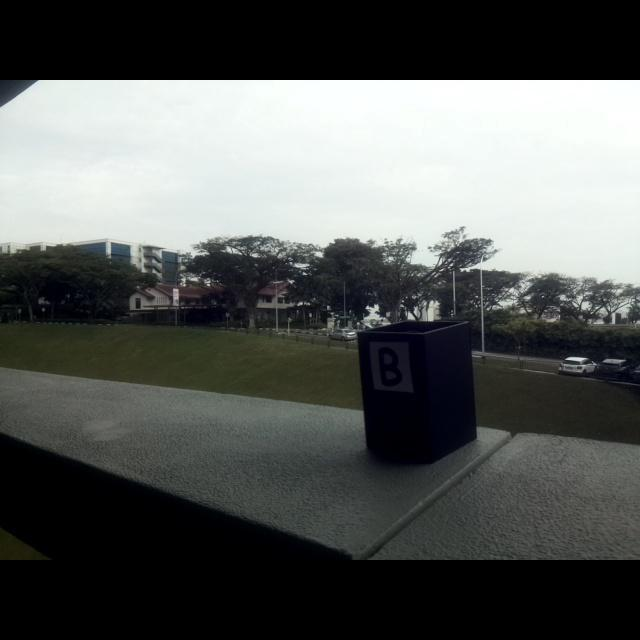B: (378, 347, 403, 387)
